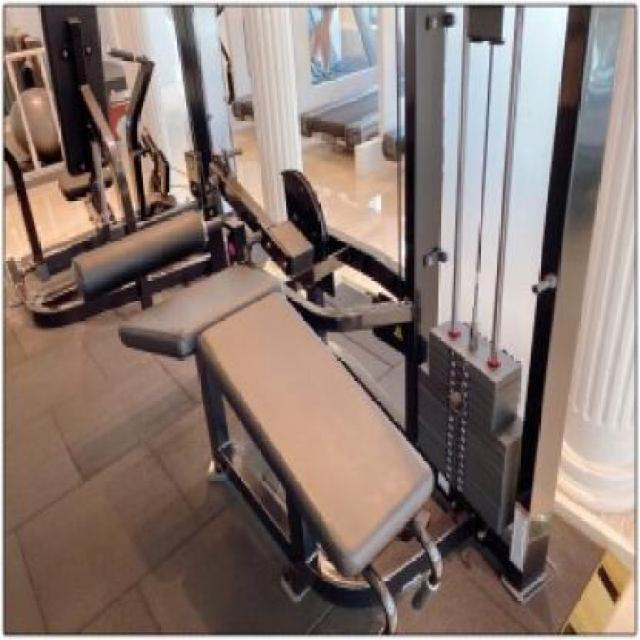reg curl machine: (66, 0, 629, 629)
